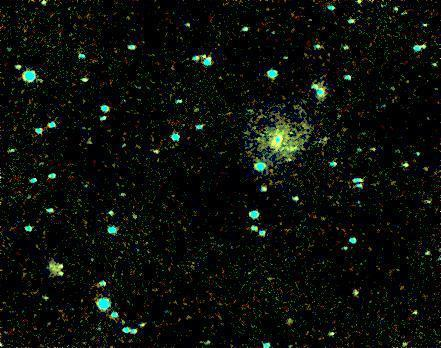star: (280, 136, 310, 166)
